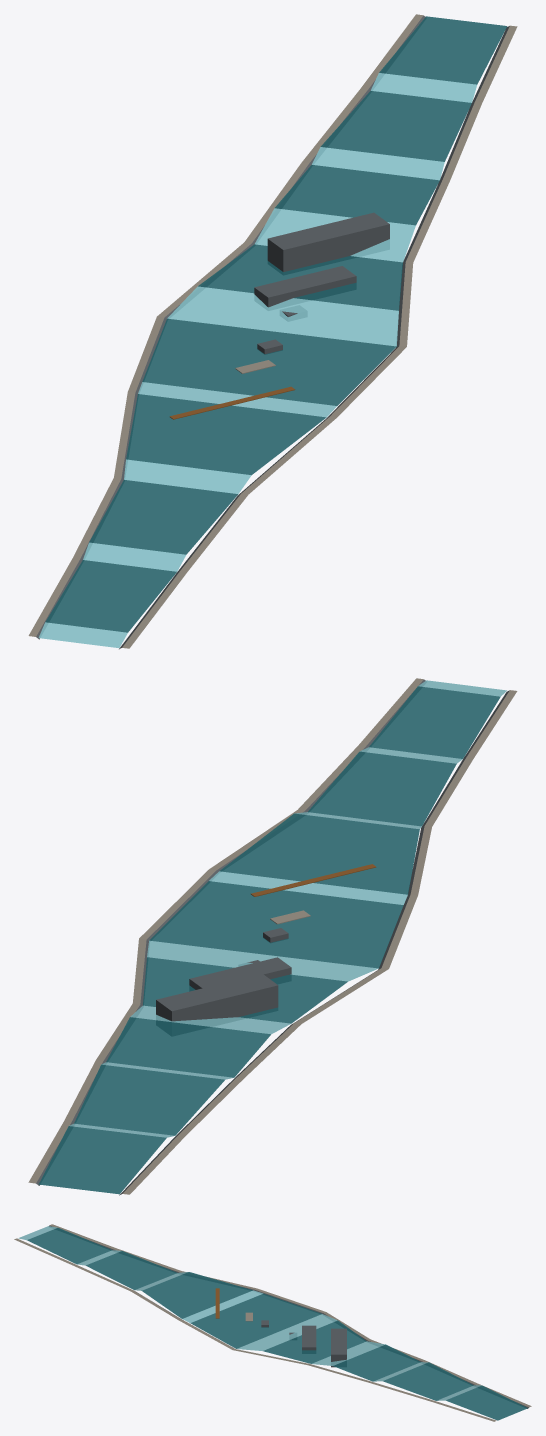
File: water_thac_cay_cau_phu_hoi.glb
3 renders of one model, top to bottom at view 1: azimuth 30°, elevation 25°; view 2: azimuth 210°, elevation 25°; view 3: azimuth 270°, elevation 25°, orthographic. The views are drawn at different scales.
Parts seen in each view (by area): view 1: water_terraces_water_thac_cay_cau_phu_hoi, waterfall_curtain_water_thac_cay_cau_phu_hoi, canyon_walkway_water_thac_cay_cau_phu_hoi, cay_cau_two_tier_basalt_waterfall_cliff, basalt_canyon_embankments_water_thac_cay_cau_phu_hoi, cay_cau_middle_stepped_basalt_terrace; view 2: water_terraces_water_thac_cay_cau_phu_hoi, waterfall_curtain_water_thac_cay_cau_phu_hoi, canyon_walkway_water_thac_cay_cau_phu_hoi, cay_cau_two_tier_basalt_waterfall_cliff, basalt_canyon_embankments_water_thac_cay_cau_phu_hoi, cay_cau_middle_stepped_basalt_terrace, cay_cau_phu_hoi_wooden_suspension_footbridge; view 3: water_terraces_water_thac_cay_cau_phu_hoi, waterfall_curtain_water_thac_cay_cau_phu_hoi, canyon_walkway_water_thac_cay_cau_phu_hoi, cay_cau_two_tier_basalt_waterfall_cliff, cay_cau_middle_stepped_basalt_terrace, basalt_canyon_embankments_water_thac_cay_cau_phu_hoi.
Boxes of the visible parts, x1=… form: water_terraces_water_thac_cay_cau_phu_hoi: x1=45, y1=16, x2=507, y2=632; waterfall_curtain_water_thac_cay_cau_phu_hoi: x1=38, y1=73, x2=476, y2=647; canyon_walkway_water_thac_cay_cau_phu_hoi: x1=28, y1=14, x2=517, y2=648; cay_cau_two_tier_basalt_waterfall_cliff: x1=267, y1=212, x2=389, y2=272; basalt_canyon_embankments_water_thac_cay_cau_phu_hoi: x1=36, y1=15, x2=509, y2=649; cay_cau_middle_stepped_basalt_terrace: x1=254, y1=266, x2=356, y2=307; water_terraces_water_thac_cay_cau_phu_hoi: x1=38, y1=686, x2=500, y2=1194; waterfall_curtain_water_thac_cay_cau_phu_hoi: x1=69, y1=680, x2=506, y2=1137; canyon_walkway_water_thac_cay_cau_phu_hoi: x1=28, y1=678, x2=517, y2=1194; cay_cau_two_tier_basalt_waterfall_cliff: x1=156, y1=974, x2=278, y2=1021; basalt_canyon_embankments_water_thac_cay_cau_phu_hoi: x1=36, y1=679, x2=509, y2=1195; cay_cau_middle_stepped_basalt_terrace: x1=189, y1=957, x2=291, y2=989; cay_cau_phu_hoi_wooden_suspension_footbridge: x1=251, y1=864, x2=376, y2=896; water_terraces_water_thac_cay_cau_phu_hoi: x1=27, y1=1228, x2=527, y2=1420; waterfall_curtain_water_thac_cay_cau_phu_hoi: x1=18, y1=1226, x2=481, y2=1400; canyon_walkway_water_thac_cay_cau_phu_hoi: x1=14, y1=1224, x2=531, y2=1421; cay_cau_two_tier_basalt_waterfall_cliff: x1=331, y1=1328, x2=346, y2=1367; cay_cau_middle_stepped_basalt_terrace: x1=302, y1=1325, x2=316, y2=1350; basalt_canyon_embankments_water_thac_cay_cau_phu_hoi: x1=49, y1=1225, x2=528, y2=1408.
Size of the model in its own units: 612 by 38.45 by 589.
